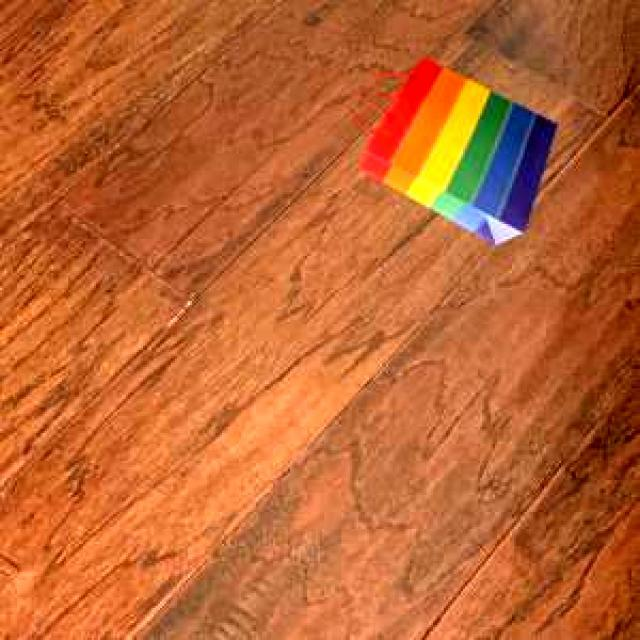Paper_Bag: (357, 54, 554, 240)
